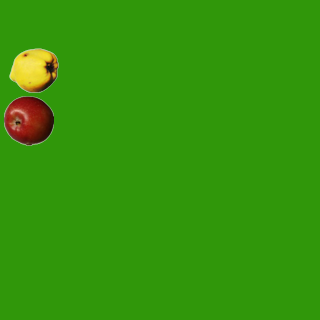Apple Braeburn: (3, 95, 53, 145)
Quince: (8, 45, 58, 95)
